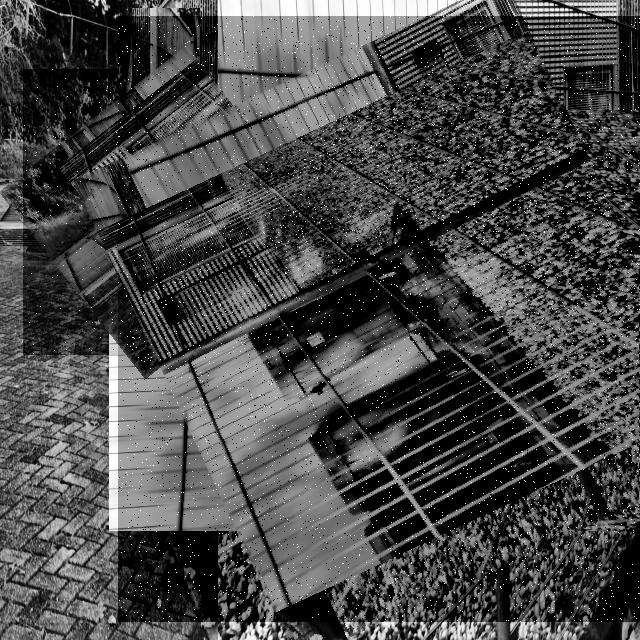fences: (118, 16, 640, 622), (23, 69, 309, 355)
